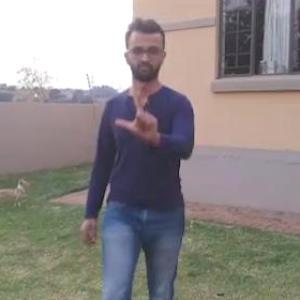land_hand: (116, 82, 165, 140)
